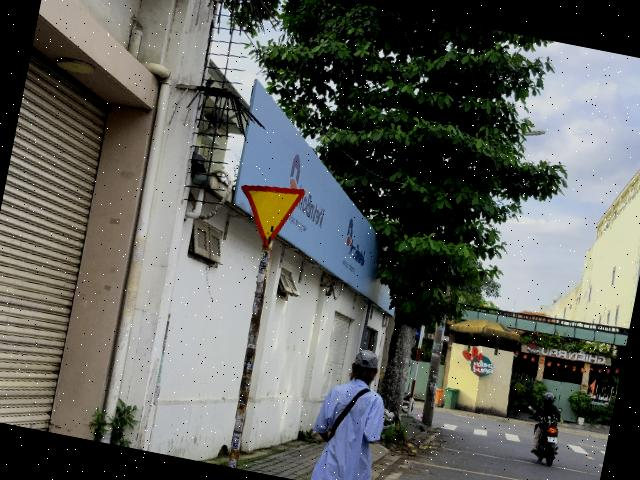giao-nhau-voi-duong-uu-tien: (230, 176, 307, 253)
